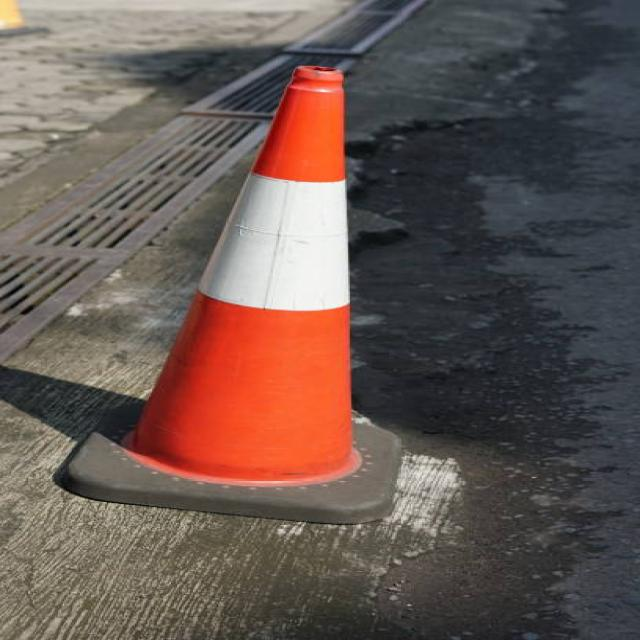Traffic Cone: (36, 18, 442, 548)
